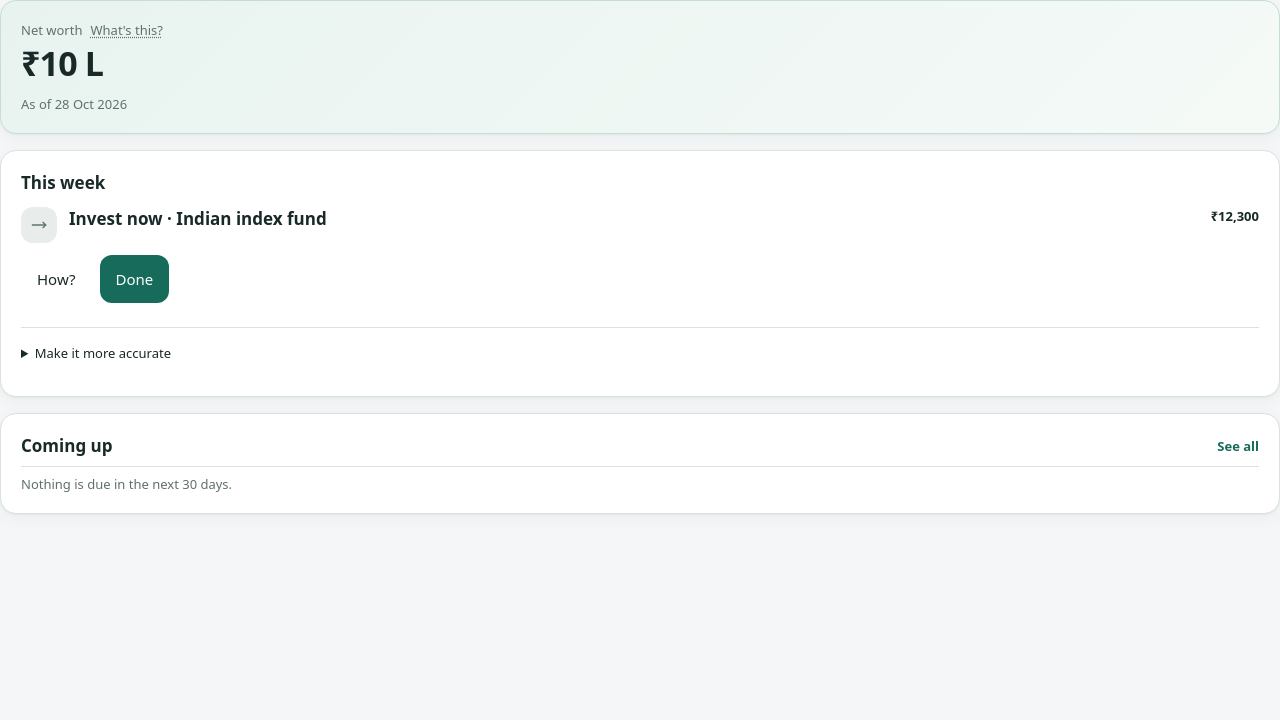
it: Home this week › rounds the action summary and keeps the full amount in How
The image size is (1280, 720).
Expected: the text "₹12,300" is shown, x1=1211 y1=207 x2=1259 y2=225
Click the button with aria-label "How to": (56, 279) x1=21 y1=255 x2=92 y2=303
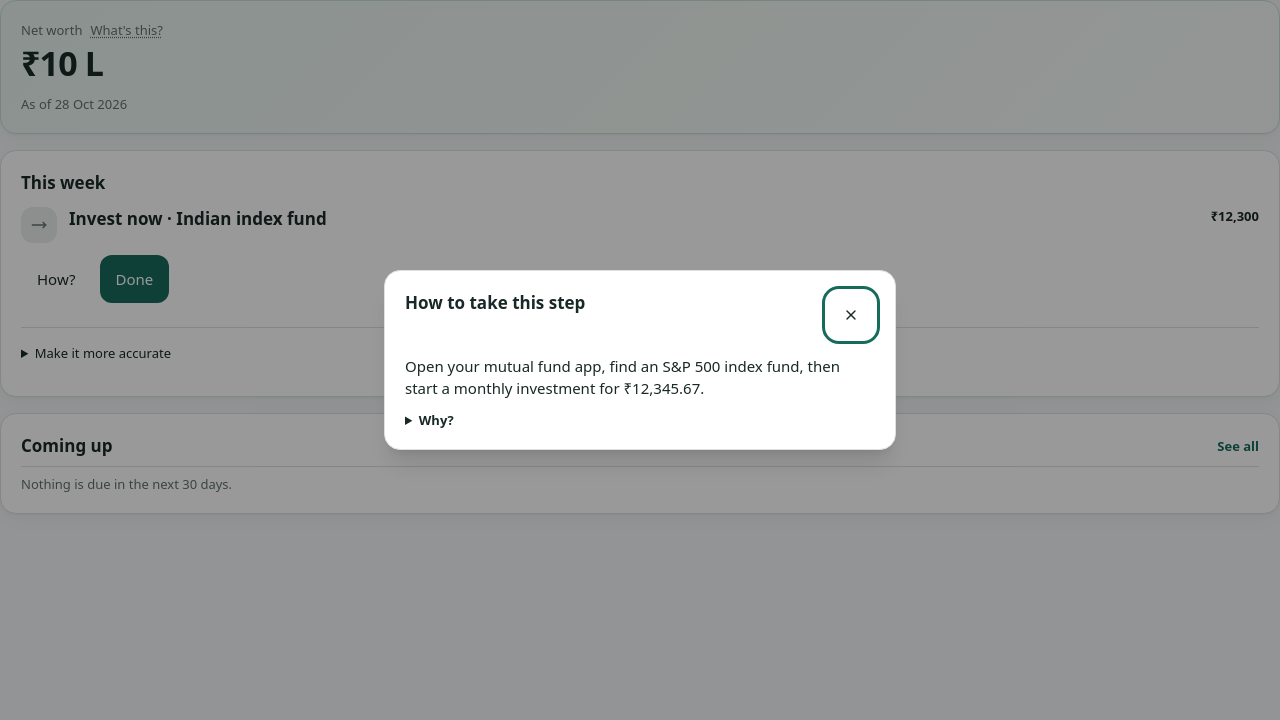
Now the dialog "How to take this step" shows "monthly investment for ₹12,345.67", box x1=405 y1=356 x2=840 y2=398
